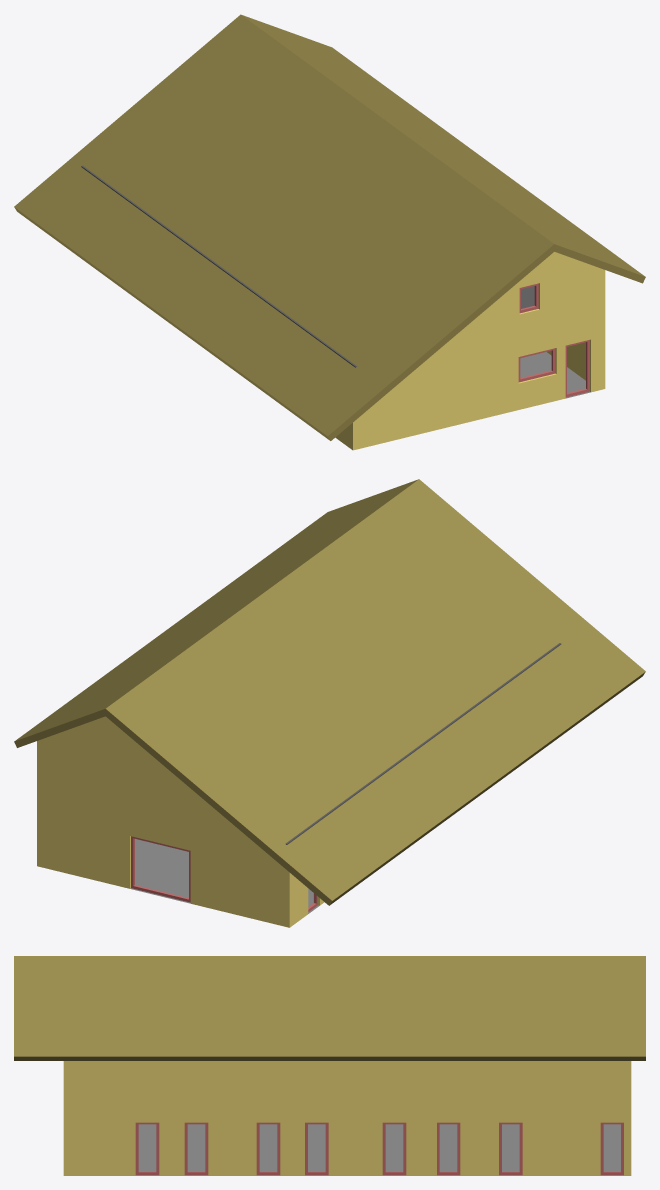
The model's file is result.glb.
3 renders of one model, top to bottom at view 1: azimuth 30°, elevation 25°; view 2: azimuth 150°, elevation 25°; view 3: azimuth 270°, elevation 25°, orthographic.
Visible parts, largest first — view 1: b835f045-602d-42ef-afe4-7c38ea5fbf83__undefined (×2), 4f6bb305-4fd6-42e7-8831-f0445d4608c3__undefined, ccc847ff-ac34-439c-8d87-f2403a9b6768__Box_108, a04ae2dd-5e62-4bd7-b67f-59892bcffeea__Plane_36; view 2: b835f045-602d-42ef-afe4-7c38ea5fbf83__undefined (×2), 4f6bb305-4fd6-42e7-8831-f0445d4608c3__undefined, a04ae2dd-5e62-4bd7-b67f-59892bcffeea__Plane_36, ccc847ff-ac34-439c-8d87-f2403a9b6768__Box_108, fba8d01f-4809-4a79-a23f-c4cda9c1df5f__Box_9; view 3: b835f045-602d-42ef-afe4-7c38ea5fbf83__undefined, 4f6bb305-4fd6-42e7-8831-f0445d4608c3__undefined, a04ae2dd-5e62-4bd7-b67f-59892bcffeea__Plane_36, bd6272d4-dc03-4ee4-a626-6bd7dc28998b__Box_60, f30e1592-8ef1-4078-a56f-80f61de0de81__Box_63, cfce8135-a9f3-4021-85ee-4b188aa556b8__Box_66, af15ebc1-bac1-4891-8868-1429e2812cbd__Box_72, 5df04194-9b51-41ae-8623-9849636ce3d0__Box_69, 85868707-a028-42f3-bdb0-830b0a08f152__Box_78, 8f770ba6-574f-4e6c-a3fa-7dc49f60cdd9__Box_75, 10a63824-b85b-47aa-9073-1761a61e0375__Box_81.
Boxes of the visible parts, x1,y1,x2,y2 form: b835f045-602d-42ef-afe4-7c38ea5fbf83__undefined (×2): (14, 14, 645, 440); 4f6bb305-4fd6-42e7-8831-f0445d4608c3__undefined: (335, 252, 605, 450); ccc847ff-ac34-439c-8d87-f2403a9b6768__Box_108: (81, 165, 534, 367); a04ae2dd-5e62-4bd7-b67f-59892bcffeea__Plane_36: (520, 352, 590, 398); b835f045-602d-42ef-afe4-7c38ea5fbf83__undefined (×2): (14, 479, 645, 905); 4f6bb305-4fd6-42e7-8831-f0445d4608c3__undefined: (37, 716, 324, 927); a04ae2dd-5e62-4bd7-b67f-59892bcffeea__Plane_36: (130, 839, 319, 913); ccc847ff-ac34-439c-8d87-f2403a9b6768__Box_108: (285, 643, 561, 844); fba8d01f-4809-4a79-a23f-c4cda9c1df5f__Box_9: (131, 836, 190, 902); b835f045-602d-42ef-afe4-7c38ea5fbf83__undefined: (14, 956, 645, 1060); 4f6bb305-4fd6-42e7-8831-f0445d4608c3__undefined: (63, 1061, 631, 1175); a04ae2dd-5e62-4bd7-b67f-59892bcffeea__Plane_36: (135, 1124, 623, 1175); bd6272d4-dc03-4ee4-a626-6bd7dc28998b__Box_60: (135, 1122, 159, 1174); f30e1592-8ef1-4078-a56f-80f61de0de81__Box_63: (184, 1122, 208, 1174); cfce8135-a9f3-4021-85ee-4b188aa556b8__Box_66: (256, 1122, 280, 1174); af15ebc1-bac1-4891-8868-1429e2812cbd__Box_72: (382, 1122, 406, 1174); 5df04194-9b51-41ae-8623-9849636ce3d0__Box_69: (305, 1122, 328, 1174); 85868707-a028-42f3-bdb0-830b0a08f152__Box_78: (499, 1122, 522, 1174); 8f770ba6-574f-4e6c-a3fa-7dc49f60cdd9__Box_75: (437, 1122, 460, 1174); 10a63824-b85b-47aa-9073-1761a61e0375__Box_81: (600, 1122, 623, 1174).
Bounding box in the file's own units: 1258 × 685 × 2147.
